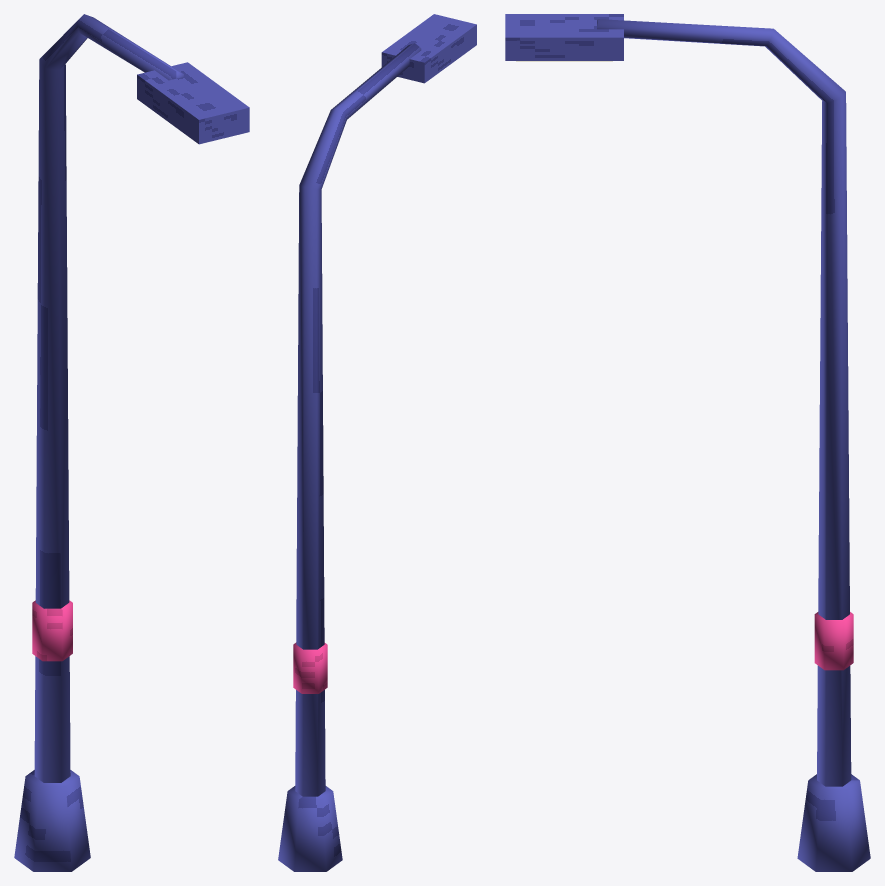
File: Street Lamp.fbx
3 renders of one model, left to right at view 1: azimuth 30°, elevation 25°; view 2: azimuth 150°, elevation 25°; view 3: azimuth 270°, elevation 25°, orthographic. The views are drawn at different scales.
Parts seen in each view (by area): view 1: Street Lamp pole, Street Lamp base, Street Lamp head, Street Lamp band; view 2: Street Lamp pole, Street Lamp base, Street Lamp head, Street Lamp band; view 3: Street Lamp pole, Street Lamp base, Street Lamp head, Street Lamp band.
Part boxes in pixels (x1,y1,x2,y2): Street Lamp pole: [34, 14, 183, 782]; Street Lamp base: [14, 770, 90, 871]; Street Lamp head: [137, 62, 249, 144]; Street Lamp band: [32, 600, 72, 661]; Street Lamp pole: [295, 43, 421, 796]; Street Lamp base: [278, 786, 342, 871]; Street Lamp head: [381, 14, 476, 83]; Street Lamp band: [293, 642, 327, 693]; Street Lamp pole: [597, 19, 851, 786]; Street Lamp base: [797, 774, 870, 871]; Street Lamp head: [505, 14, 623, 60]; Street Lamp band: [814, 612, 853, 670].
Bounding box in the file's own units: 0.2944 × 4.29 × 1.69.
Materials: 3 (3 with a texture image).
